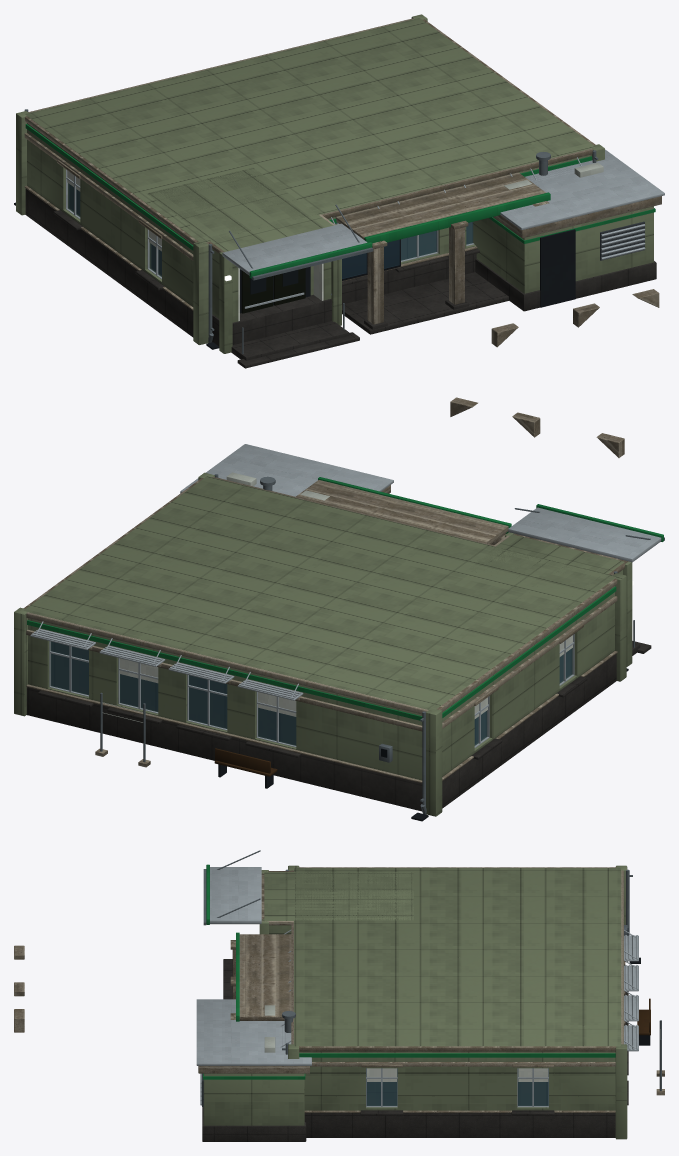
The model's file is fac_living_main.glb.
The picture shows the model from 3 angles, top to bottom: view 1: azimuth 30°, elevation 25°; view 2: azimuth 150°, elevation 25°; view 3: azimuth 270°, elevation 25°; orthographic projection. The views are drawn at different scales.
Visible parts, largest first — view 1: FAC_LIVING_MAIN; view 2: FAC_LIVING_MAIN; view 3: FAC_LIVING_MAIN.
Boxes of the visible parts, box(x1,y1,x2,y2) form: FAC_LIVING_MAIN: box(14, 14, 664, 368); FAC_LIVING_MAIN: box(14, 397, 664, 821); FAC_LIVING_MAIN: box(14, 850, 664, 1141).
Bounding box in the file's own units: 14.16 × 3.98 × 20.65.
Materials: 21 (16 with a texture image).
